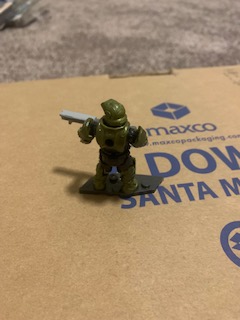soldier: (55, 97, 150, 198)
